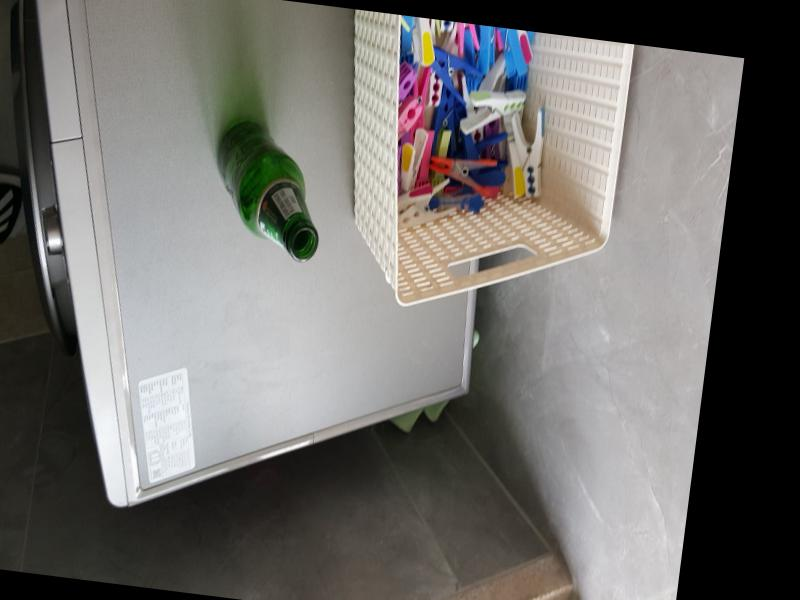Beer: (203, 118, 330, 264)
